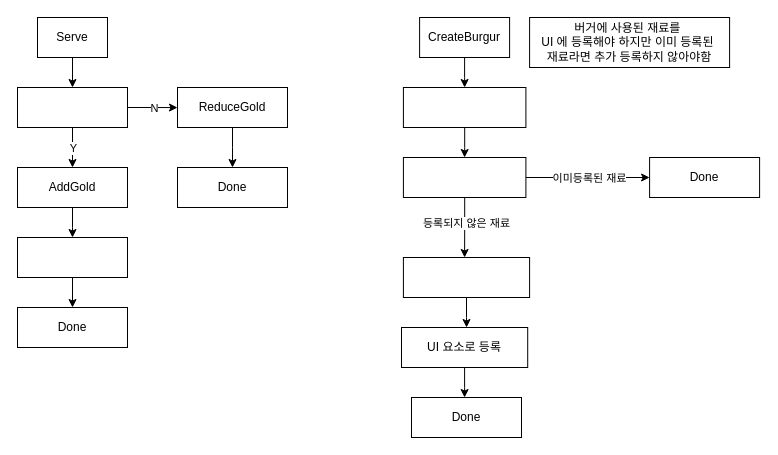
The diagram is 778 pixels wide and 455 high, and some of its shapes have lost their labels. The centre of each missing label's shape, as x and y in pixels:
"RemoveCustomer" belongs at (72,257).
"SearchBurger" belongs at (72,107).
"사용된 음식재료 리스트에 추가" belongs at (466,277).
"요청된 버거의 층 만큼 랜덤한 재료 쌓기" belongs at (464,107).
"재료 등록하기" belongs at (464,177).
